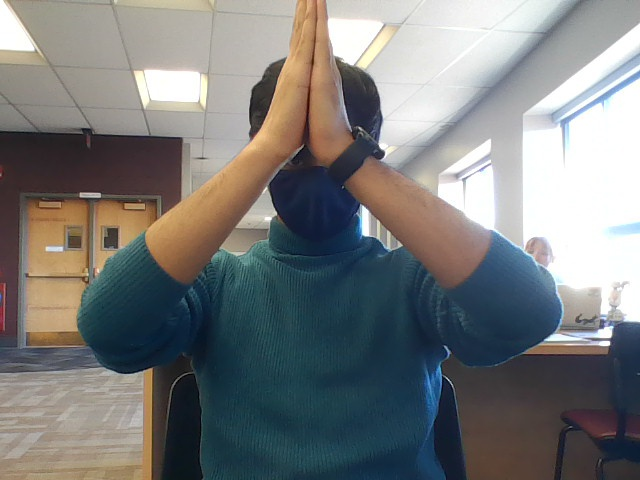start: (256, 1, 379, 173), (258, 1, 362, 173)
